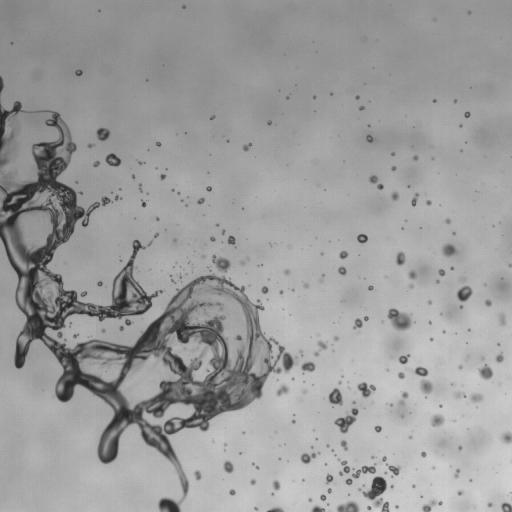droplet: (359, 476, 389, 511), (334, 408, 358, 433), (387, 308, 413, 330), (212, 255, 230, 273), (357, 382, 375, 397), (456, 285, 472, 301), (478, 364, 493, 380), (328, 388, 342, 405), (300, 452, 319, 463), (105, 153, 121, 166), (314, 340, 327, 356), (338, 459, 350, 475), (442, 244, 457, 256), (430, 414, 444, 426), (96, 128, 109, 140), (276, 384, 289, 396), (301, 361, 315, 372), (500, 431, 511, 443), (223, 460, 233, 473), (396, 252, 405, 265), (398, 354, 409, 364), (470, 393, 482, 402), (453, 391, 466, 398), (357, 234, 367, 243), (501, 502, 511, 511), (227, 235, 235, 245), (495, 352, 503, 362), (325, 474, 333, 484), (272, 480, 280, 490), (338, 266, 346, 275), (408, 270, 416, 279), (340, 440, 347, 450), (194, 470, 201, 480), (499, 314, 505, 325), (243, 143, 251, 151), (339, 251, 348, 258), (366, 134, 373, 142), (391, 192, 398, 200), (197, 197, 204, 204), (438, 269, 445, 276), (261, 286, 268, 293), (485, 299, 491, 306), (398, 372, 404, 379), (374, 426, 381, 432), (345, 478, 352, 484), (93, 161, 99, 167), (229, 489, 235, 495), (320, 494, 326, 500), (75, 70, 82, 75), (464, 112, 470, 117), (141, 200, 146, 206), (80, 291, 86, 296), (421, 451, 426, 457), (457, 490, 463, 495), (413, 155, 418, 160), (160, 174, 165, 179), (206, 186, 211, 191), (115, 195, 120, 200), (426, 200, 431, 205), (445, 218, 450, 223), (210, 236, 215, 241), (284, 269, 289, 274), (97, 281, 102, 286), (303, 283, 308, 288), (368, 285, 373, 290), (250, 479, 255, 484), (88, 143, 93, 147), (156, 142, 161, 146), (391, 166, 396, 170), (178, 275, 182, 280), (460, 277, 465, 281), (488, 502, 492, 507), (355, 95, 359, 99), (359, 106, 363, 110), (221, 230, 225, 234), (154, 233, 158, 237), (240, 261, 244, 265), (409, 284, 413, 288), (119, 326, 123, 330), (101, 328, 105, 332), (334, 336, 338, 340), (458, 365, 462, 369), (302, 390, 306, 394), (291, 419, 295, 423), (408, 435, 412, 439), (210, 116, 214, 119), (267, 121, 271, 124), (138, 161, 142, 164), (148, 241, 151, 245), (508, 263, 511, 267), (279, 290, 282, 294), (73, 334, 77, 337), (300, 350, 303, 354), (458, 446, 462, 449), (327, 489, 331, 492), (156, 217, 159, 220), (173, 239, 176, 242), (450, 267, 453, 270), (308, 498, 311, 501), (182, 6, 185, 8), (433, 99, 435, 102), (454, 99, 456, 102), (391, 153, 394, 155), (132, 175, 134, 178), (79, 192, 82, 194), (202, 255, 204, 258), (436, 280, 439, 282), (428, 301, 431, 303), (460, 305, 462, 308), (428, 321, 431, 323), (430, 338, 433, 340), (338, 381, 341, 383), (439, 404, 441, 407), (255, 507, 257, 510), (468, 11, 470, 13), (313, 96, 315, 98), (216, 223, 218, 225), (319, 279, 321, 281), (229, 310, 231, 312), (497, 343, 499, 345), (352, 401, 354, 403)
ligament: (0, 102, 296, 511), (413, 366, 432, 395), (381, 456, 400, 475), (352, 463, 376, 478), (336, 500, 359, 511), (422, 499, 442, 511), (369, 175, 383, 189), (353, 316, 368, 329), (398, 391, 408, 405), (310, 505, 328, 511), (411, 193, 418, 205), (0, 76, 4, 96), (267, 507, 284, 511), (454, 469, 459, 478), (253, 463, 258, 469), (139, 183, 142, 191), (170, 276, 174, 282), (32, 123, 37, 125)
